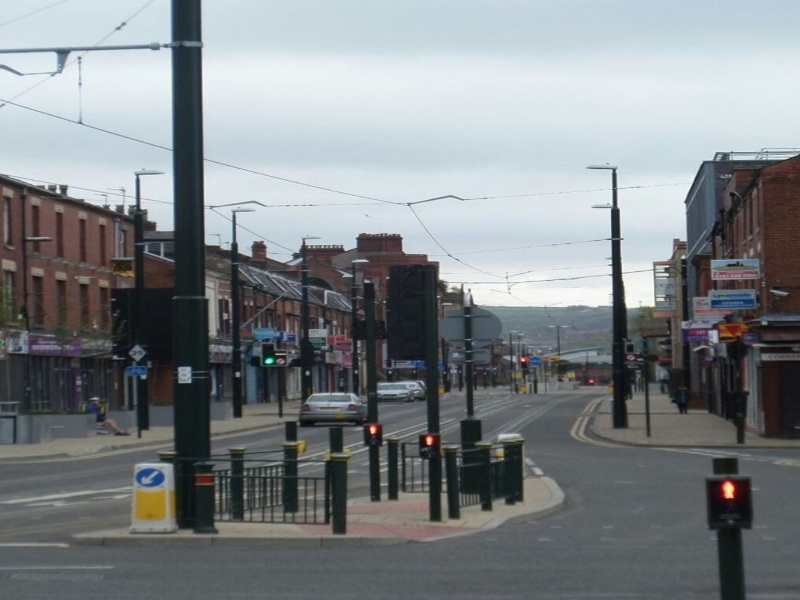left_direction: (135, 466, 166, 487)
